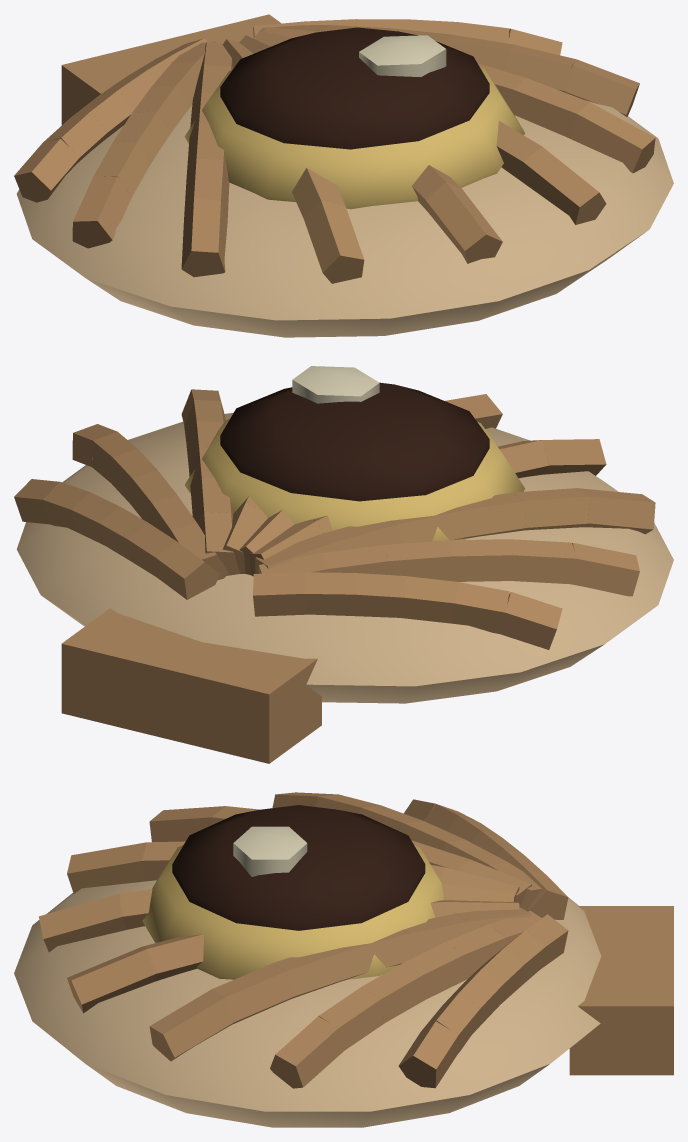
Rendered from item_hamayaki.glb.
3 views of the same model, one above another, from view 1: azimuth 30°, elevation 25°; view 2: azimuth 150°, elevation 25°; view 3: azimuth 270°, elevation 25° (orthographic).
Visible parts, largest first — view 1: item_hamayaki; view 2: item_hamayaki; view 3: item_hamayaki.
Part boxes in pixels (left/top/right/bottom): item_hamayaki: left=14, top=14, right=673, bottom=337; item_hamayaki: left=14, top=366, right=673, bottom=763; item_hamayaki: left=14, top=792, right=673, bottom=1127.
Size of the model in its own units: 0.1379 by 0.052 by 0.139.
